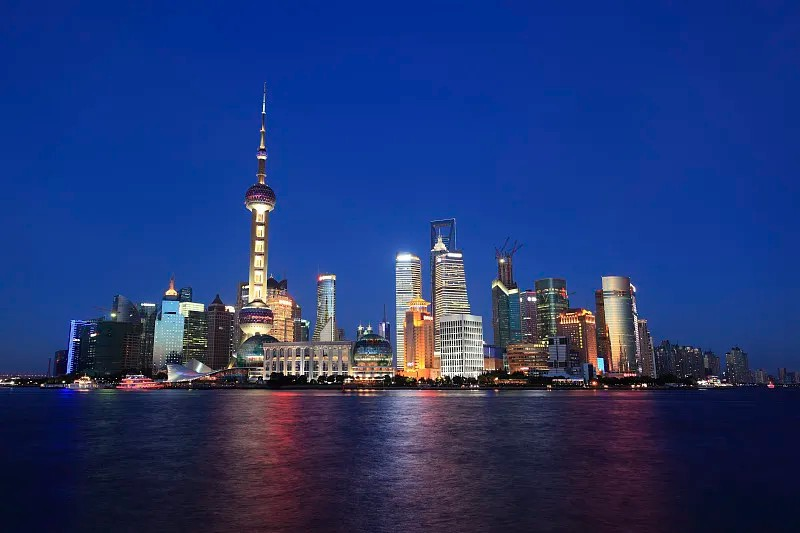Oriental: (236, 85, 276, 342)
